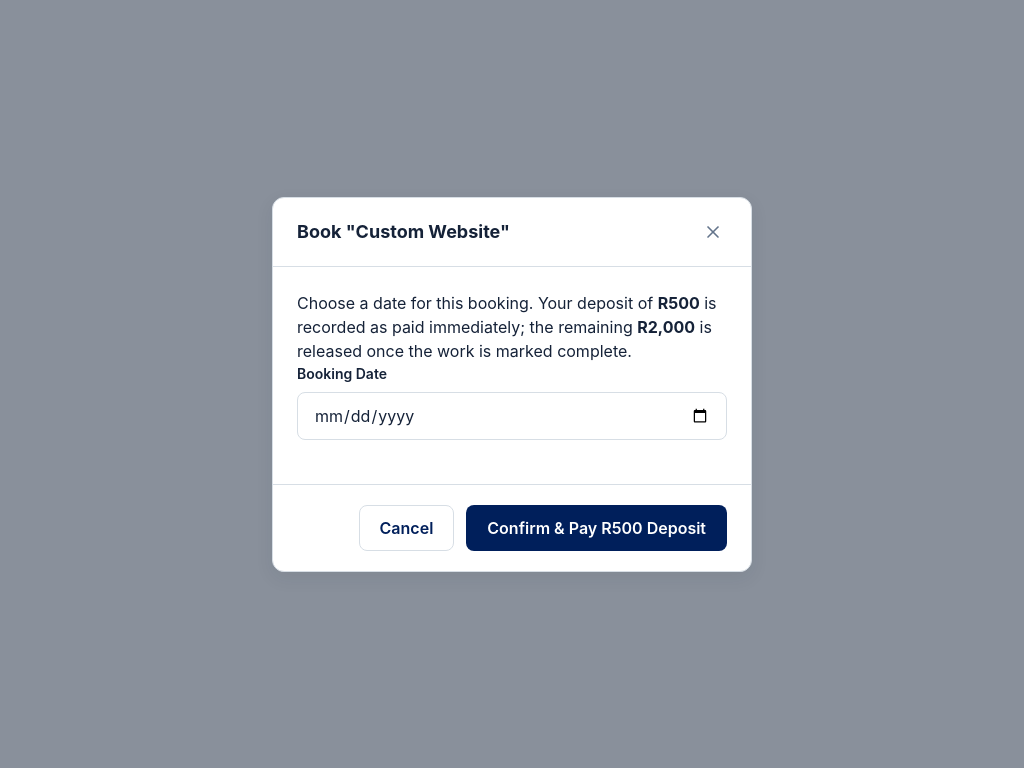
Booking modal › disables both buttons while the booking is in flight (no double booking)
Type "2999-01-15" into the date field labelled "Booking Date".
click(512, 416); type("2999-01-15")  # box [297, 392, 727, 440]
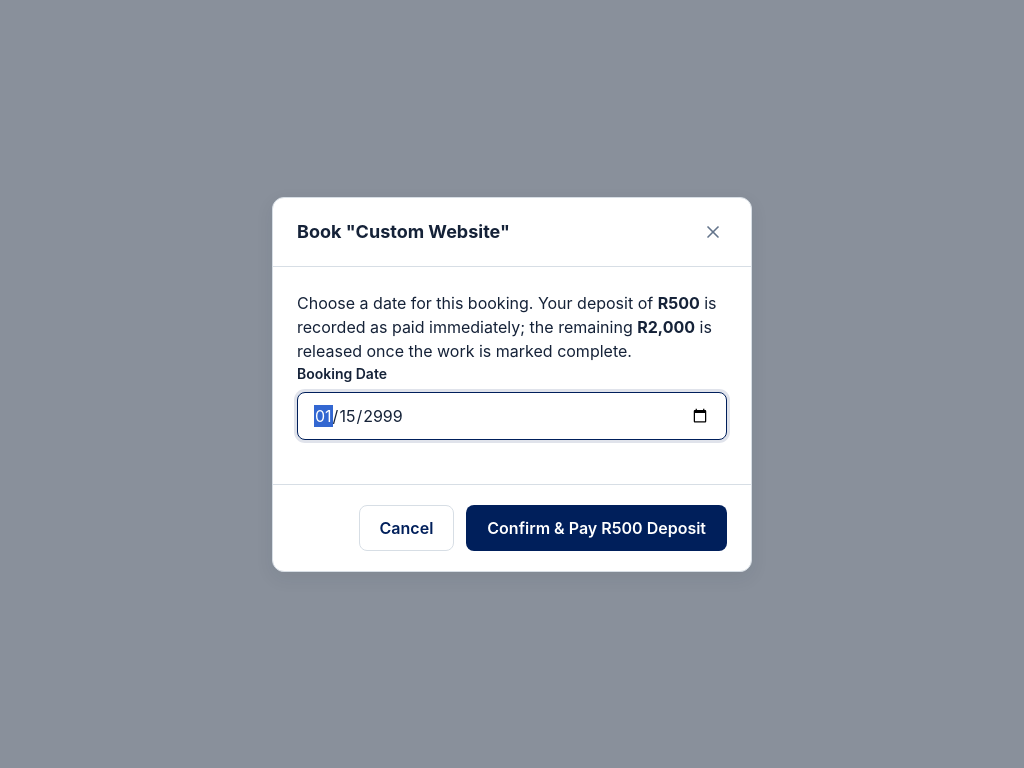
Click the button "Confirm & Pay R500 Deposit".
click(597, 528)  # box [466, 504, 727, 550]
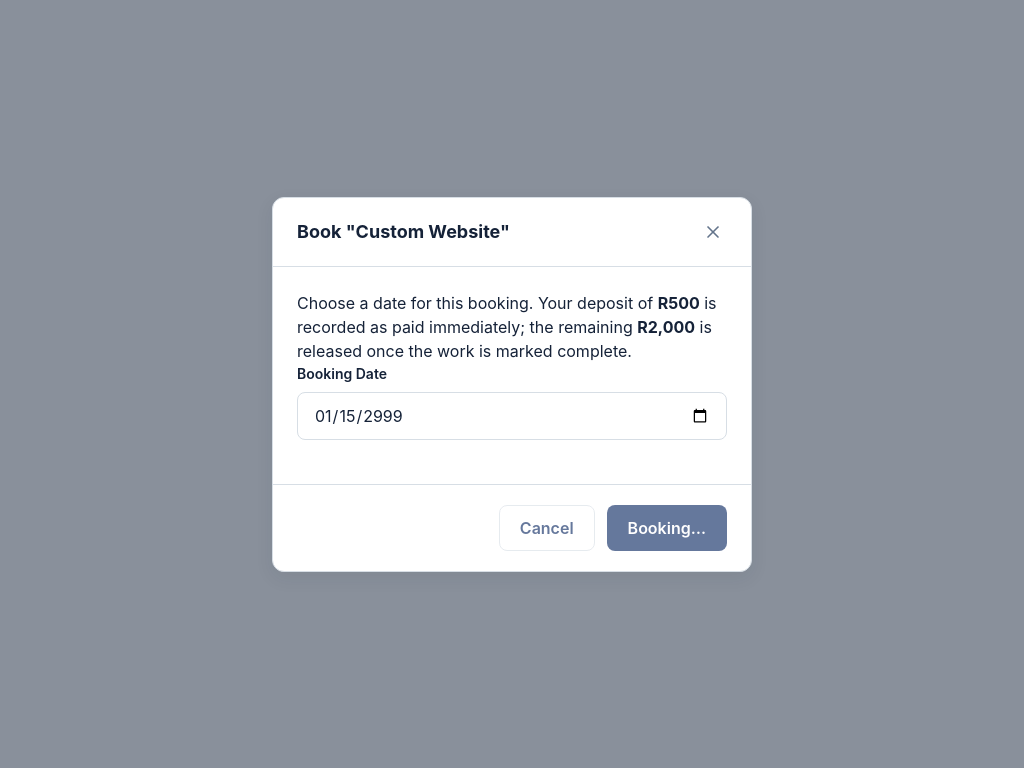
Check: the button "Booking…" is disabled, box [607, 504, 727, 550]
Check: the button "Cancel" is disabled, box [499, 504, 594, 550]
